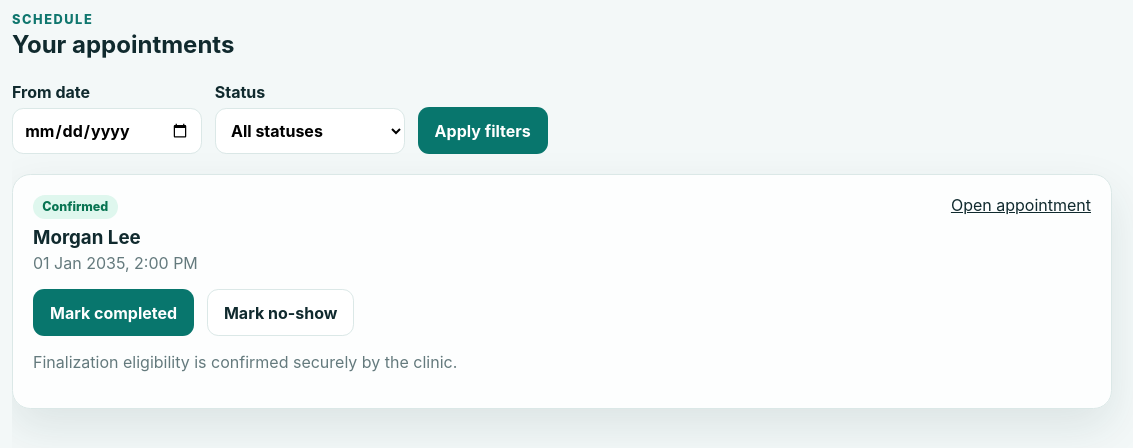
Scenario: schedule marks an eligible appointment no-show and refreshes from the server
Click the button "Mark no-show".
click(281, 312)  # box [207,289,354,336]
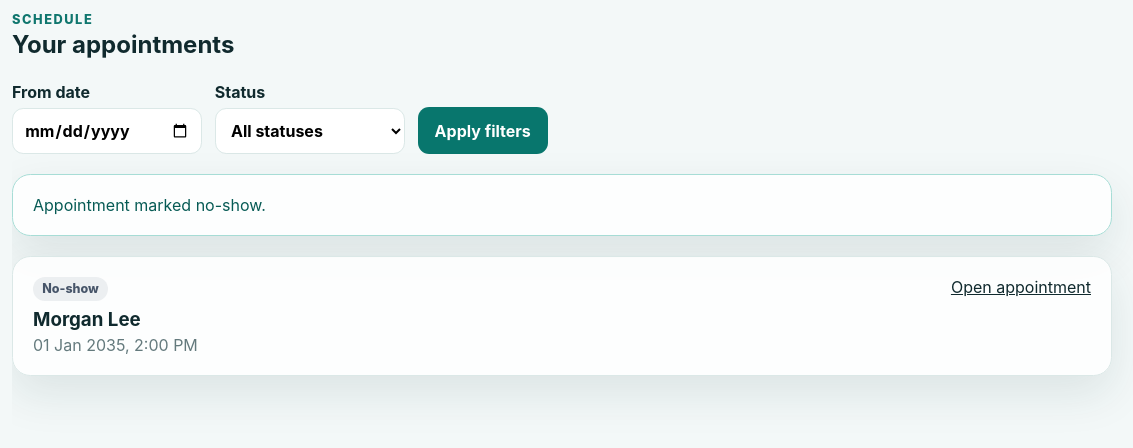
Check: the text "Appointment marked no-show." is shown, box [12,174,1112,236]
Check: the text "No-show" is shown, box [33,277,108,301]
